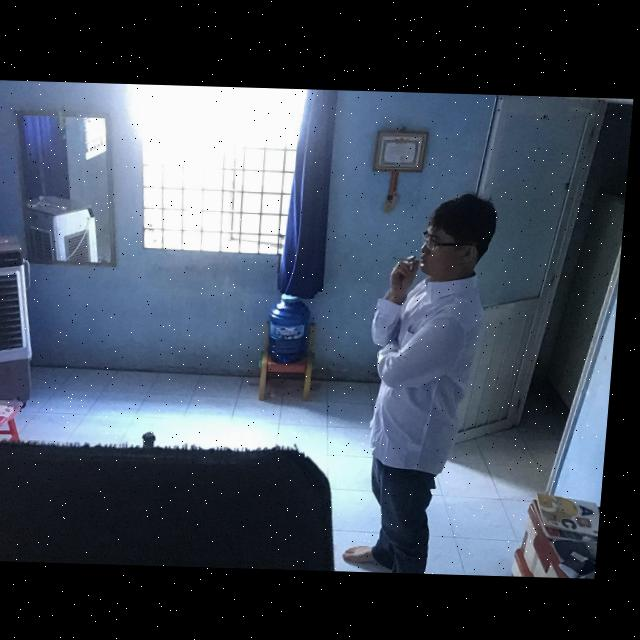cigarette: (396, 254, 420, 260)
